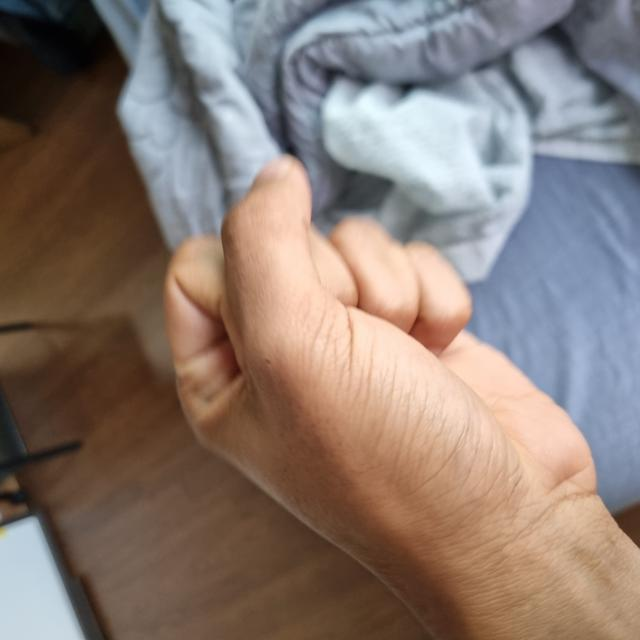Rock: (47, 165, 487, 583)
